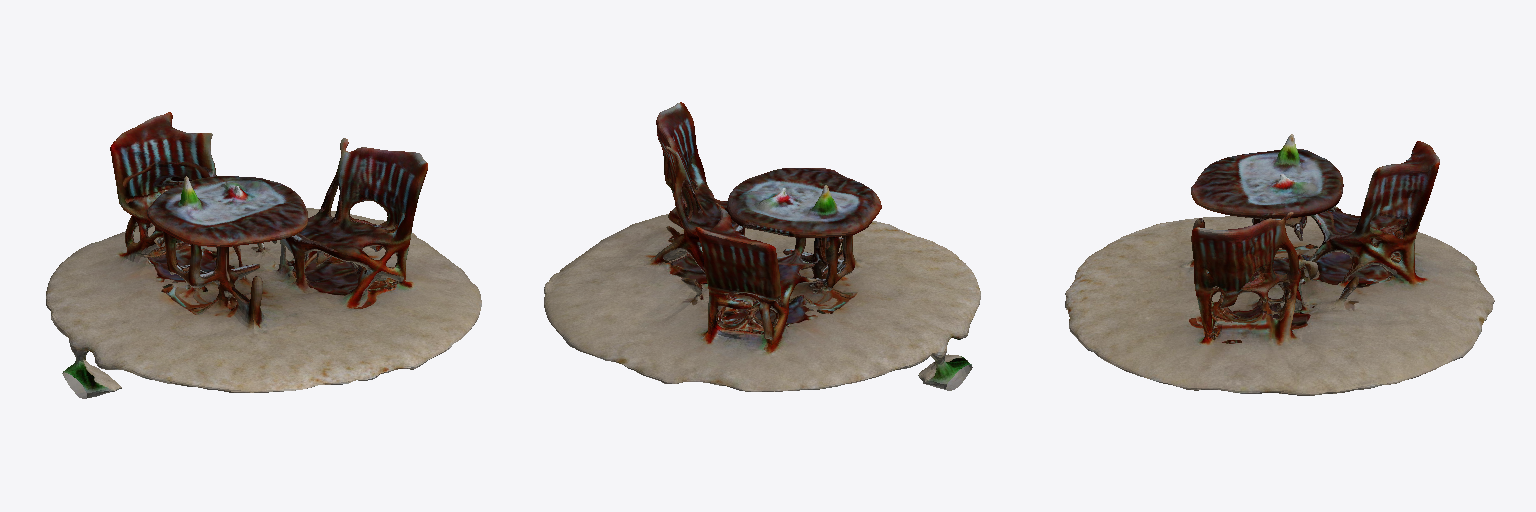
3 views of the same model, side by side, from view 1: azimuth 30°, elevation 25°; view 2: azimuth 150°, elevation 25°; view 3: azimuth 270°, elevation 25° (orthographic).
Visible parts, largest first — view 1: mesh; view 2: mesh; view 3: mesh.
Boxes of the visible parts, x1=… form: mesh: x1=46, y1=112, x2=481, y2=398; mesh: x1=544, y1=102, x2=980, y2=391; mesh: x1=1065, y1=134, x2=1494, y2=395.
Bounding box in the file's own units: 0.9953 × 0.4621 × 0.981.
1 materials, 1 textured.